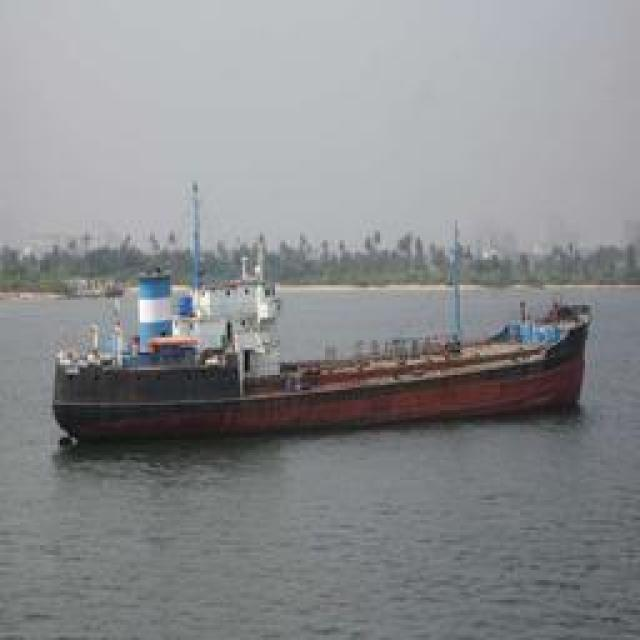ship2: (53, 182, 594, 445)
